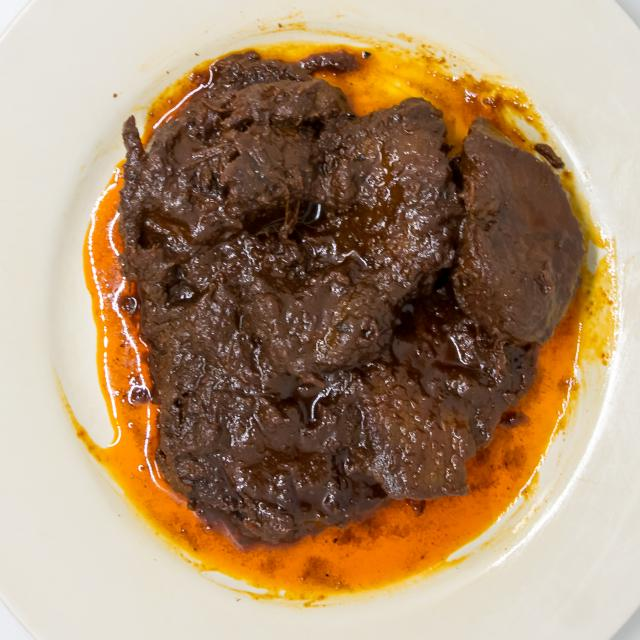Rendang: (54, 30, 611, 547)
